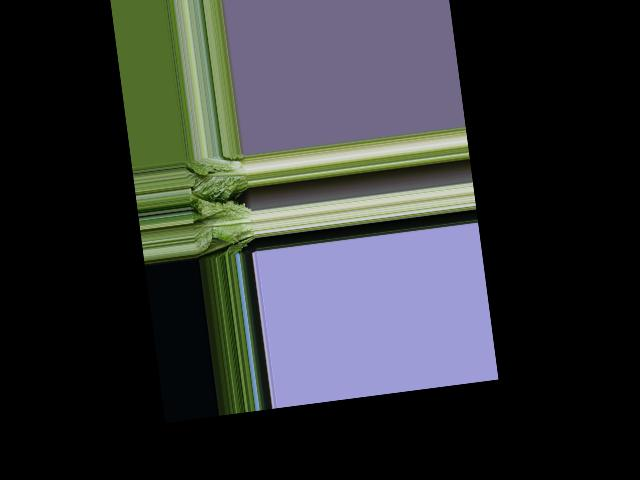lettuce: (188, 155, 250, 201)
